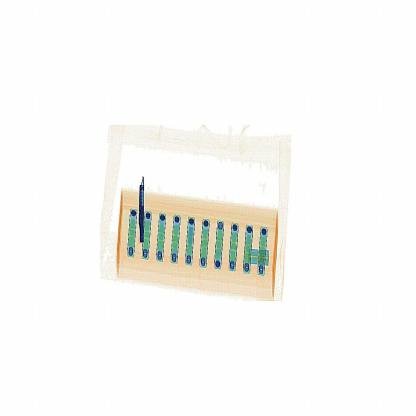pliers: (132, 171, 152, 248)
